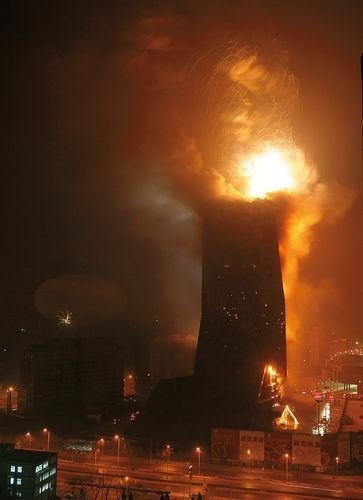fire: (232, 141, 301, 201)
